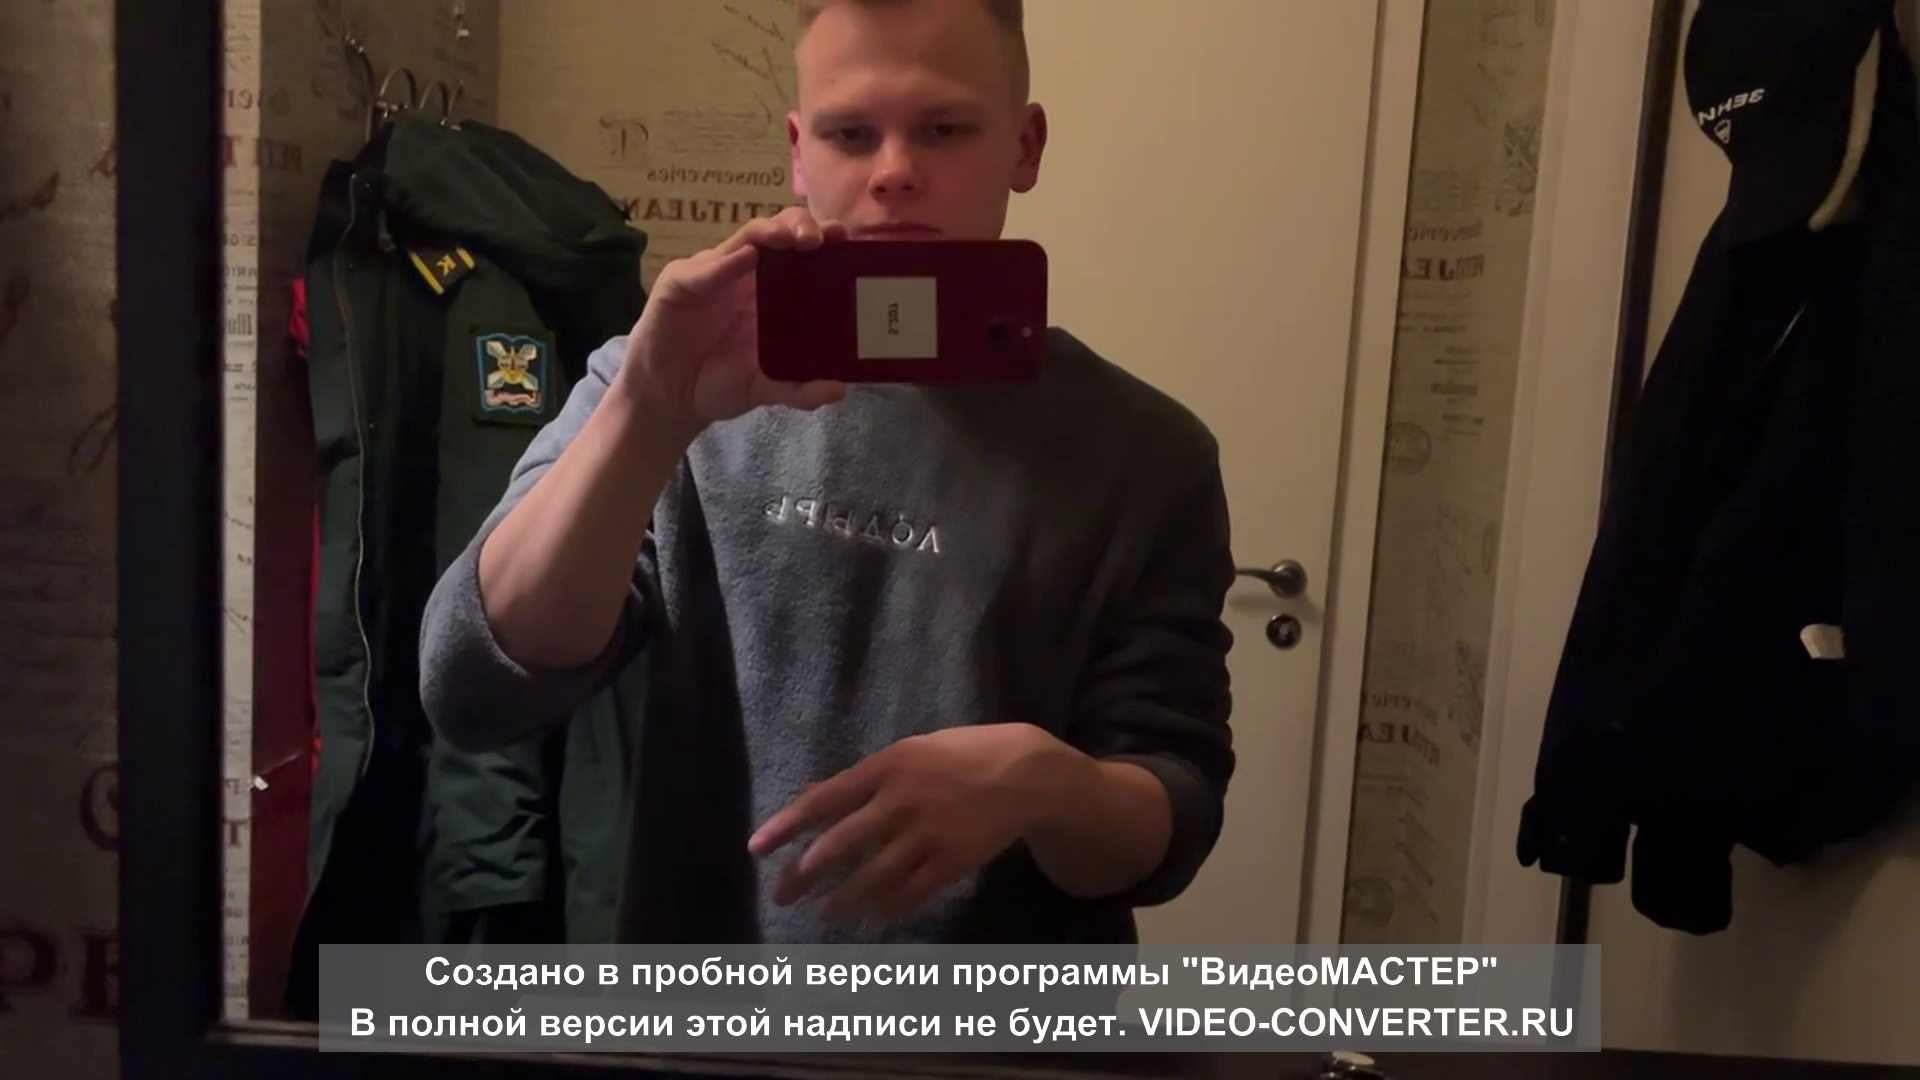Кисть: (746, 721, 1068, 931)
